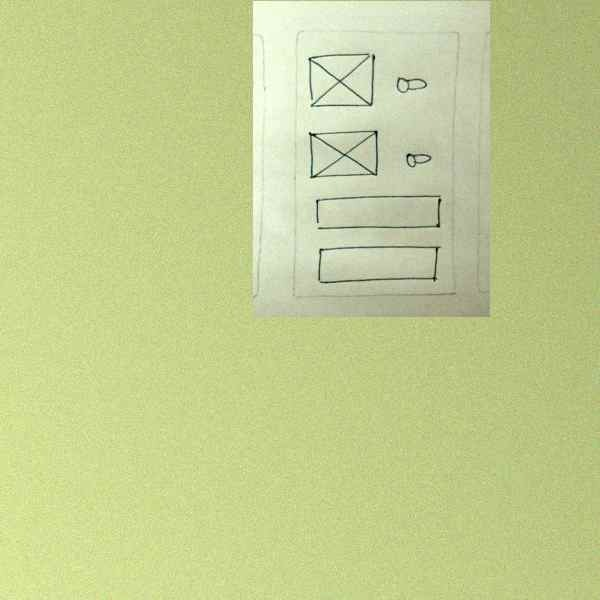image: (304, 50, 380, 114), (304, 128, 382, 181)
switch: (393, 71, 431, 99), (402, 147, 434, 173)
text_input: (312, 192, 444, 234), (311, 244, 445, 285)
